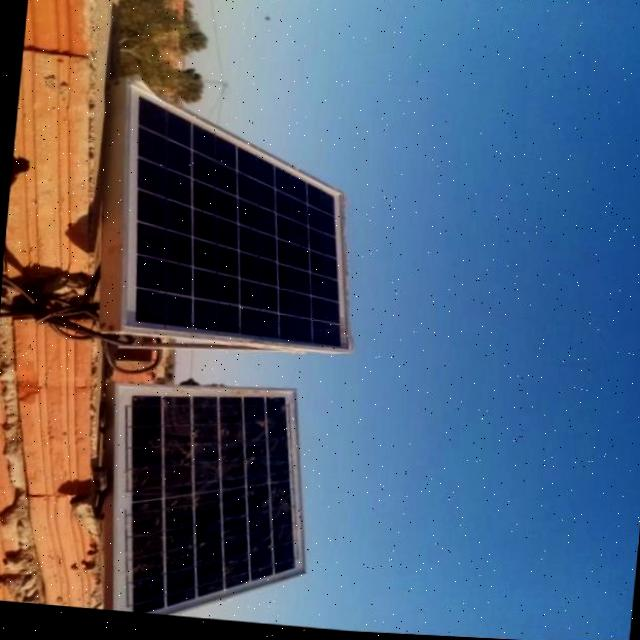Normal Solar Panel: (109, 92, 366, 358)
